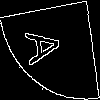A: (25, 25, 70, 69)
